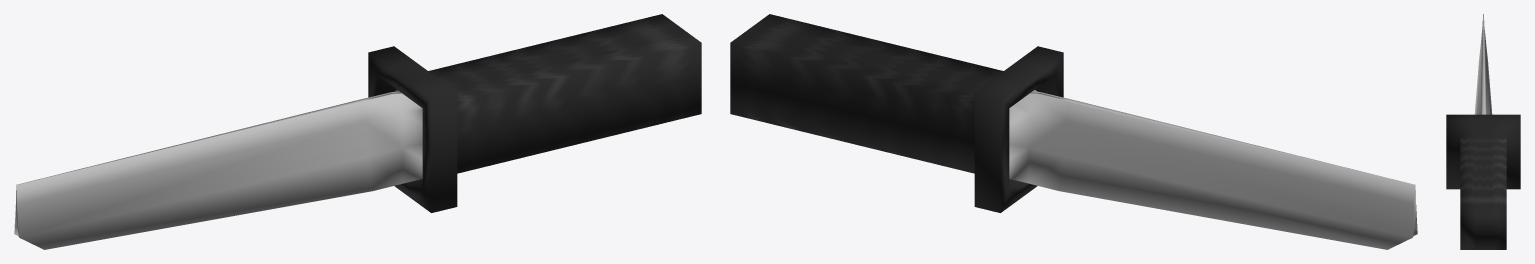
The model's file is chuchillo.dae.
The picture shows the model from 3 angles, left to right: view 1: azimuth 30°, elevation 25°; view 2: azimuth 150°, elevation 25°; view 3: azimuth 270°, elevation 25°; orthographic projection. The views are drawn at different scales.
Parts seen in each view (by area): view 1: Cube; view 2: Cube; view 3: Cube.
Part boxes in pixels (x1=…): Cube: x1=14, y1=14, x2=701, y2=249; Cube: x1=730, y1=14, x2=1417, y2=249; Cube: x1=1446, y1=14, x2=1520, y2=249.
Size of the model in its own units: 3.53 by 0.5809 by 0.5809.
1 material, 1 textured.
